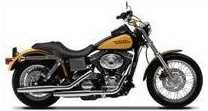motorcycle: (5, 9, 202, 107)
